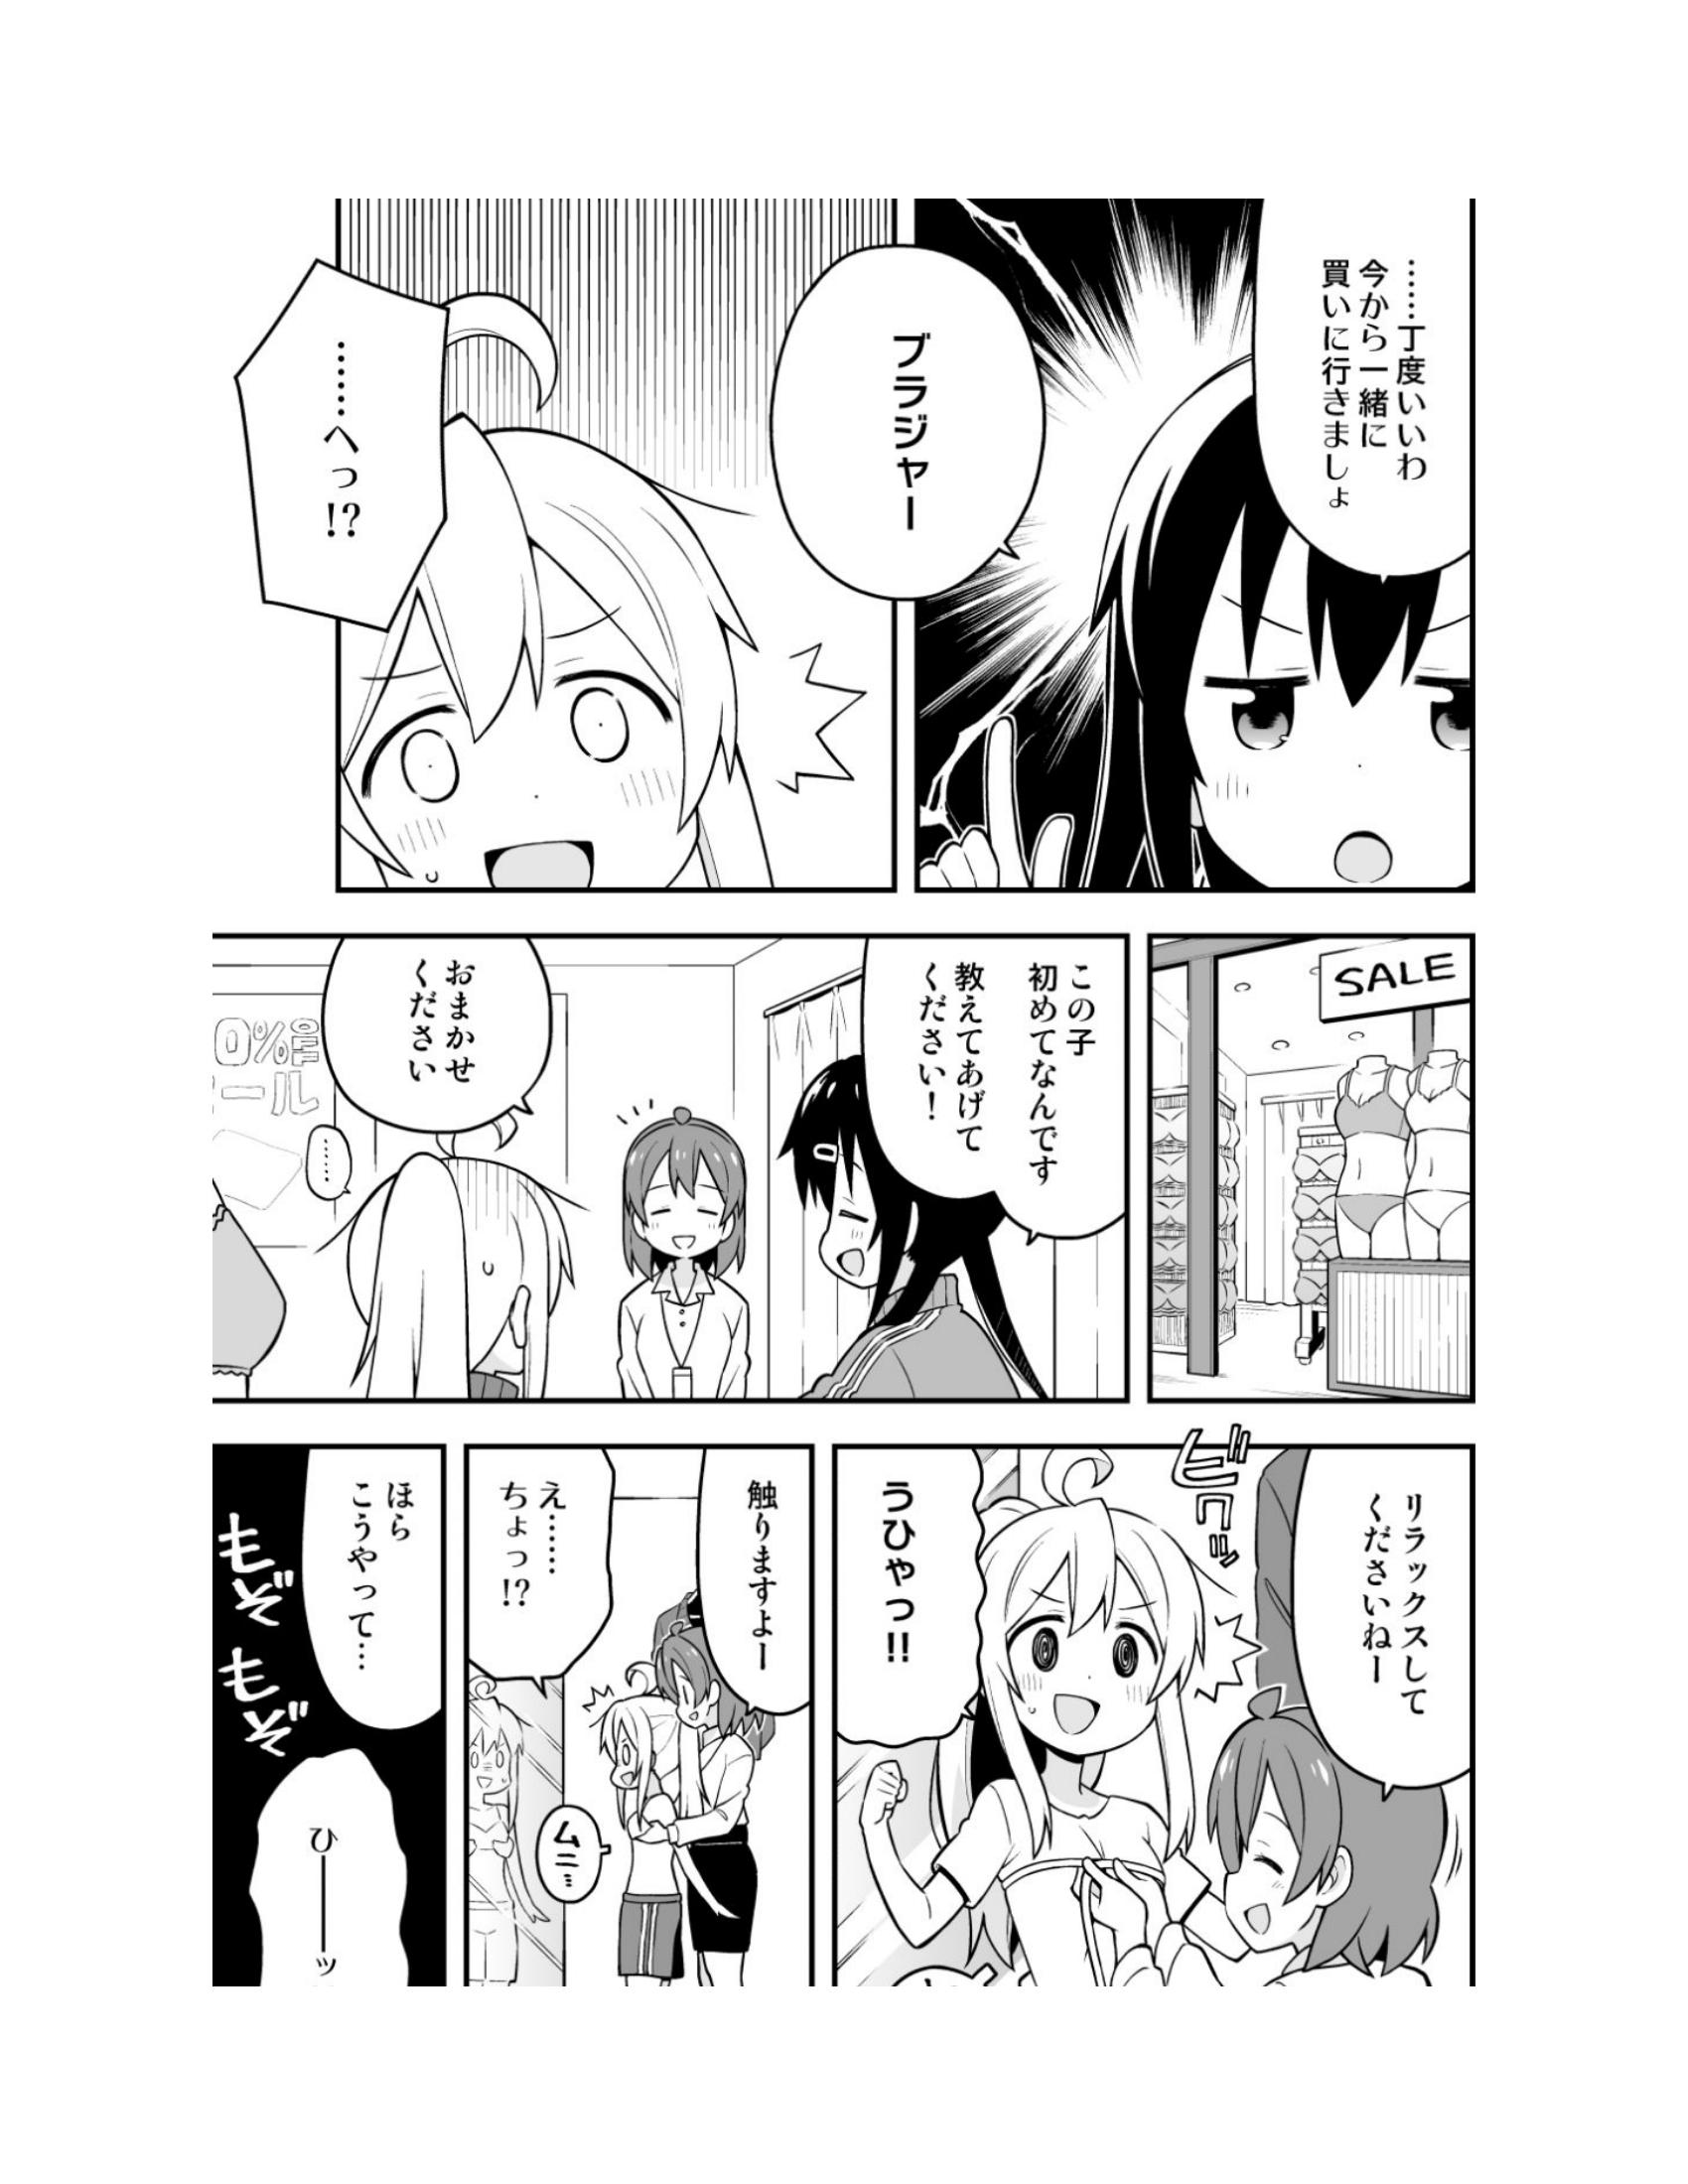a: (762, 232, 1032, 649), (261, 280, 527, 667), (856, 885, 1133, 1244), (1271, 168, 1459, 610), (312, 902, 612, 1154), (1280, 1434, 1504, 1746), (275, 1447, 470, 1734), (684, 1420, 849, 1743), (456, 1434, 628, 1727), (856, 1454, 1005, 1757)
